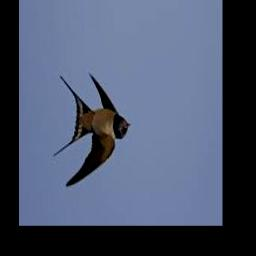Swallow: (52, 74, 130, 188)
